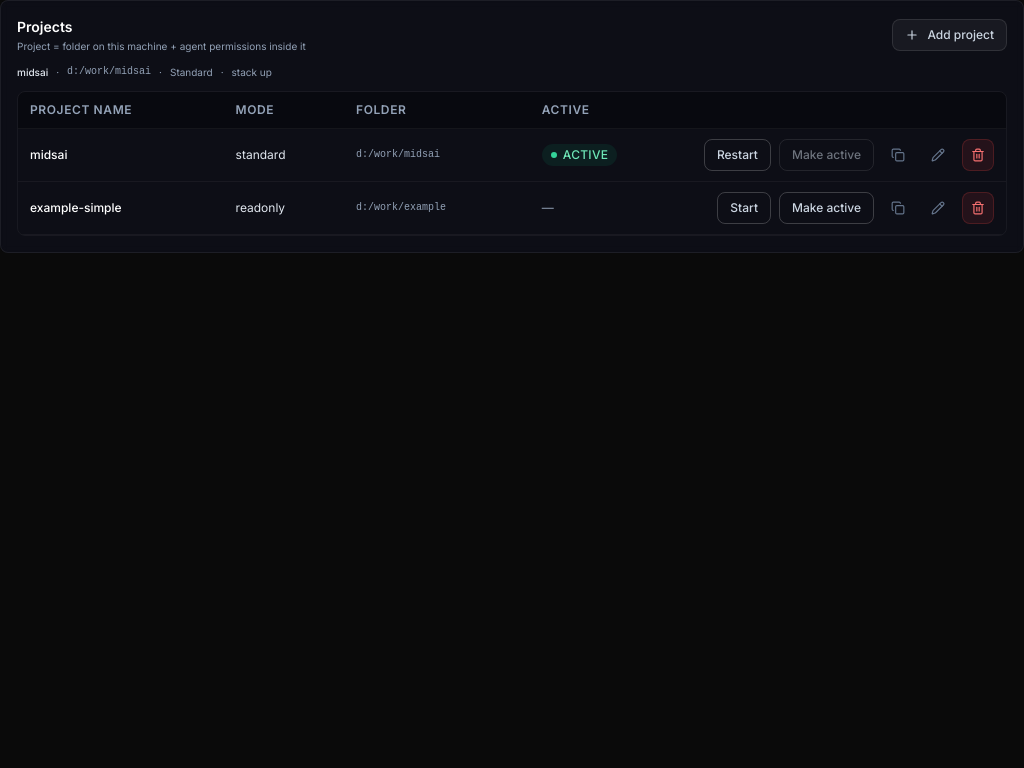
Test: Devbox profile editor › keeps the raw JSON collapsed on plain edit until the toggle opens it
What coordinates should you click on to do the following:
click the button with test id "devbox-profile-edit-midsai"
I would click on:
 (938, 155)
Its box is [922,139,954,171].
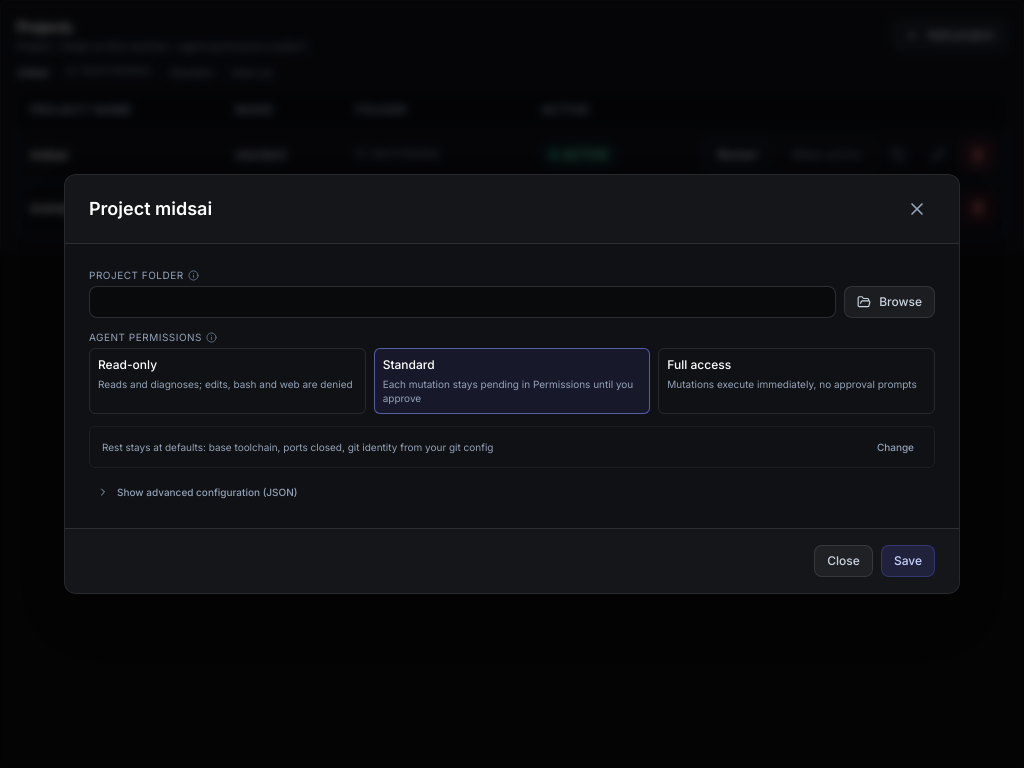
Result: the element with test id "devbox-profile-form" is shown at [89,268,935,414]
What coordinates should you click on to do the following:
click the button with test id "devbox-profile-json-toggle"
I would click on:
 (197, 492)
Its box is [89,480,306,504].
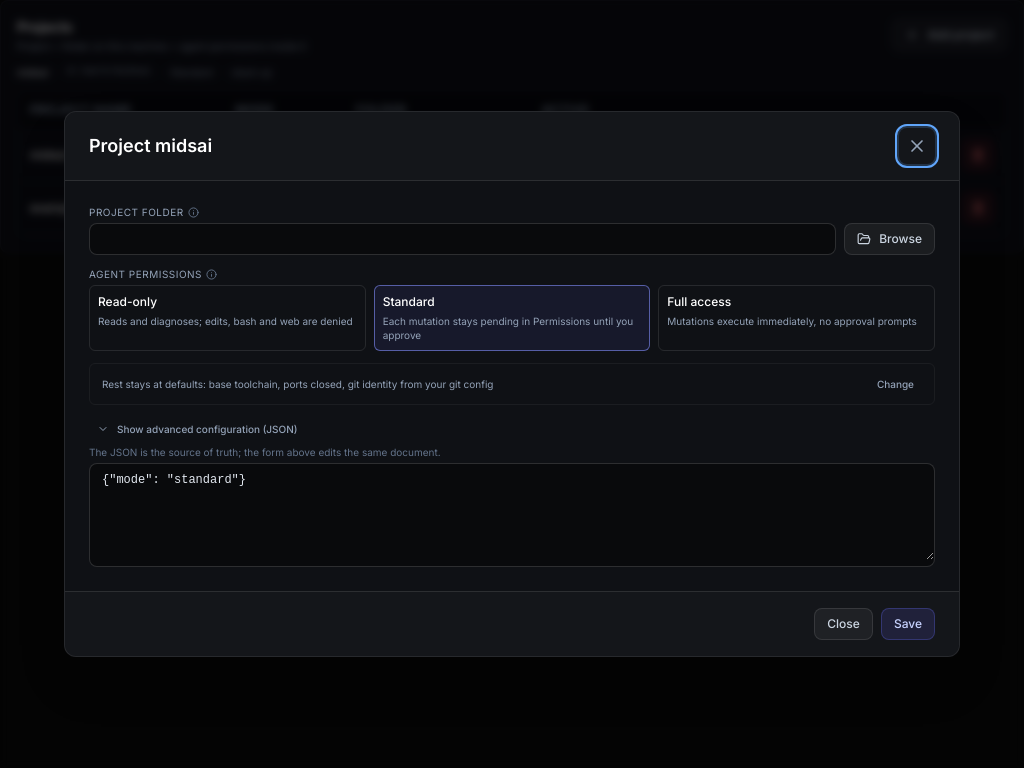
Result: the text box with test id "devbox-profile-editor" is shown at [90,464,934,560]
